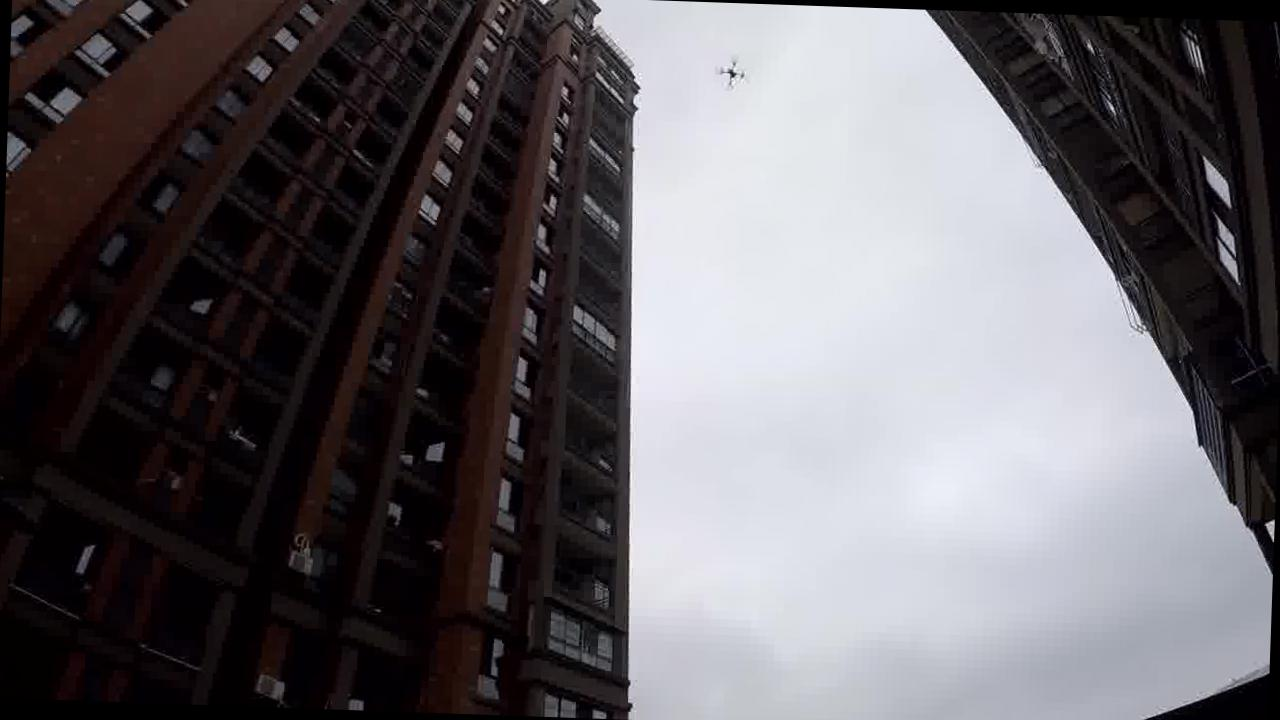drone: (702, 41, 768, 100)
